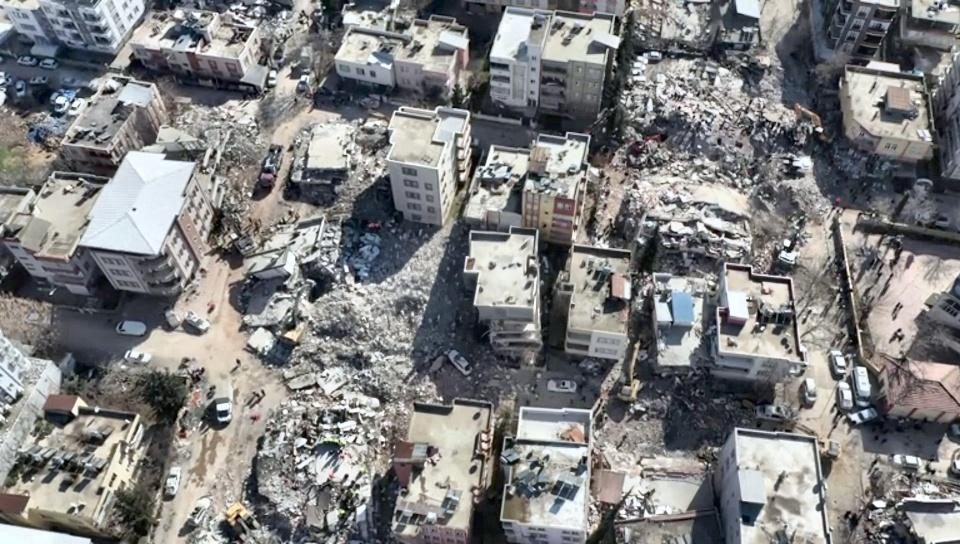kapali: (205, 197, 316, 381), (282, 342, 531, 406), (759, 22, 832, 234), (576, 376, 799, 434)
